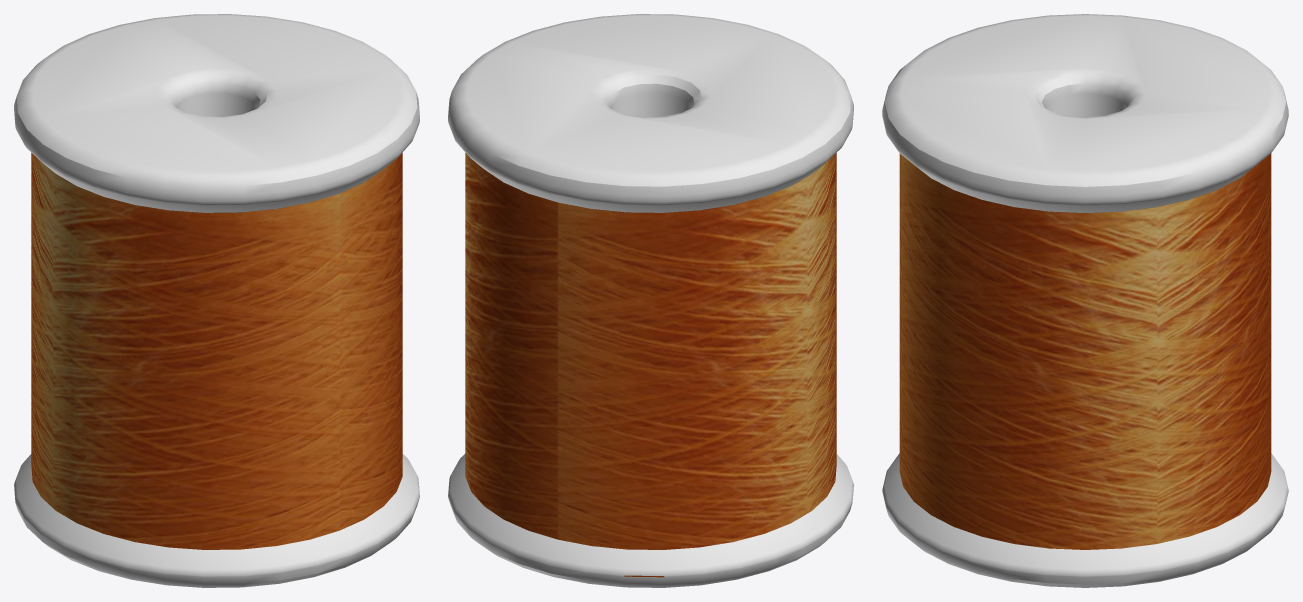
Rendered from Testspool.fbx.
The picture shows the model from 3 angles, left to right: view 1: azimuth 30°, elevation 25°; view 2: azimuth 150°, elevation 25°; view 3: azimuth 270°, elevation 25°; orthographic projection.
Visible parts, largest first — view 1: Cylinder; view 2: Cylinder; view 3: Cylinder.
Boxes of the visible parts, <box> form: Cylinder: <box>14,14,419,587</box>; Cylinder: <box>448,14,853,587</box>; Cylinder: <box>882,14,1288,587</box>.
Bounding box in the file's own units: 219 × 246 × 219.
2 materials, 1 textured.
